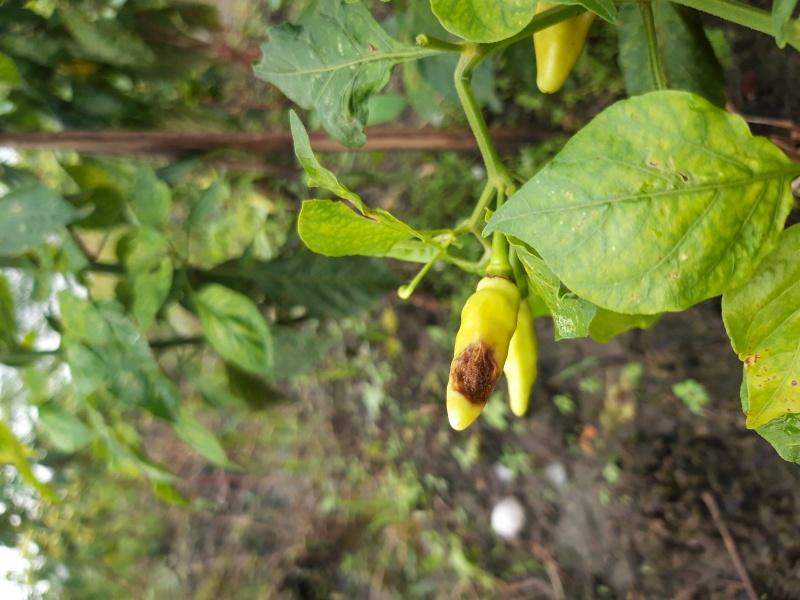antraknosa: (444, 276, 520, 432)
